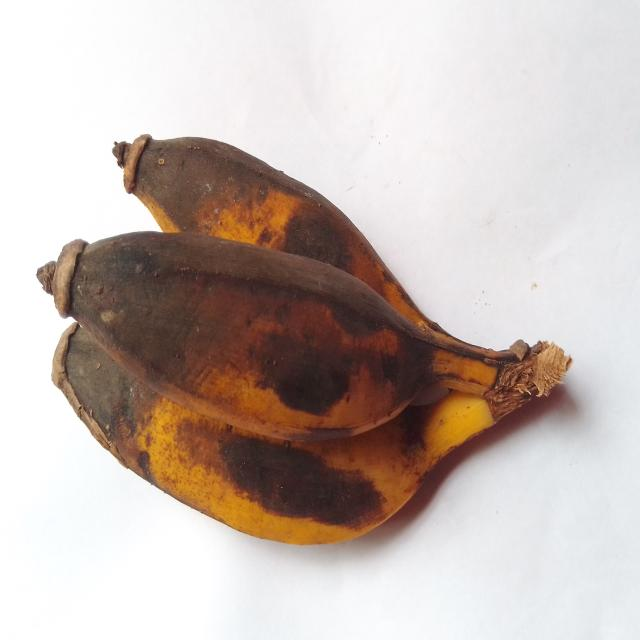banana: (40, 233, 570, 439), (53, 324, 494, 544), (113, 135, 442, 331)
